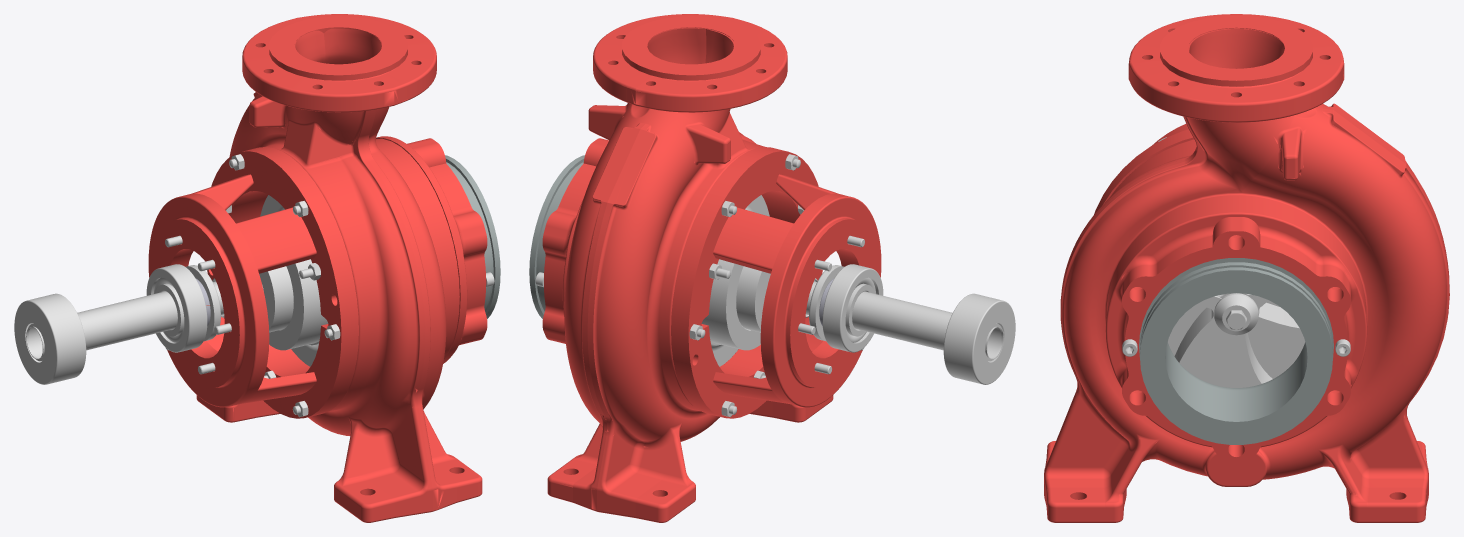
The model's file is motor4.glb.
3 views of the same model, side by side, from view 1: azimuth 30°, elevation 25°; view 2: azimuth 150°, elevation 25°; view 3: azimuth 270°, elevation 25° (orthographic). The views are drawn at different scales.
Visible parts, largest first — view 1: Mesh_3_Standard_1_0, Mesh_1_Standard_1_0.003, Mesh_2_Standard_1_0, Mesh_1_Standard_3_0, Mesh_1_Standard_3_0.023, Mesh_1_Standard_3_0.041, Mesh_1_Standard_3_0.004, Mesh_1_Standard_3_0.056, Mesh_1_Standard_6_0, Mesh_1_Standard_3_0.027, Mesh_1_Standard_1_0.004; view 2: Mesh_3_Standard_1_0, Mesh_1_Standard_1_0.003, Mesh_1_Standard_3_0, Mesh_1_Standard_3_0.023, Mesh_2_Standard_1_0, Mesh_1_Standard_3_0.041, Mesh_1_Standard_3_0.004, Mesh_1_Standard_3_0.056, Mesh_1_Standard_6_0, Mesh_1_Standard_3_0.027; view 3: Mesh_3_Standard_1_0, Mesh_2_Standard_1_0, Mesh_1_Standard_3_0.056, Mesh_1_Standard_3_0.053, Mesh_1_Standard_1_0.003, Mesh_1_Standard_1_0.004, Mesh_1_Standard_3_0.054.
Part boxes in pixels (<box>): Mesh_3_Standard_1_0: <box>196,14,482,522</box>; Mesh_1_Standard_1_0.003: <box>148,147,358,418</box>; Mesh_2_Standard_1_0: <box>376,136,487,363</box>; Mesh_1_Standard_3_0: <box>14,293,86,384</box>; Mesh_1_Standard_3_0.023: <box>26,281,223,361</box>; Mesh_1_Standard_3_0.041: <box>260,195,328,366</box>; Mesh_1_Standard_3_0.004: <box>146,264,207,352</box>; Mesh_1_Standard_3_0.056: <box>445,155,500,319</box>; Mesh_1_Standard_6_0: <box>259,266,293,332</box>; Mesh_1_Standard_3_0.027: <box>186,265,220,341</box>; Mesh_1_Standard_1_0.004: <box>407,138,446,167</box>; Mesh_3_Standard_1_0: <box>547,14,833,522</box>; Mesh_1_Standard_1_0.003: <box>671,147,881,418</box>; Mesh_1_Standard_3_0: <box>943,293,1015,384</box>; Mesh_1_Standard_3_0.023: <box>806,281,1003,361</box>; Mesh_2_Standard_1_0: <box>542,163,595,343</box>; Mesh_1_Standard_3_0.041: <box>701,195,769,366</box>; Mesh_1_Standard_3_0.004: <box>822,264,883,352</box>; Mesh_1_Standard_3_0.056: <box>529,155,584,319</box>; Mesh_1_Standard_6_0: <box>736,266,770,332</box>; Mesh_1_Standard_3_0.027: <box>809,265,844,341</box>; Mesh_3_Standard_1_0: <box>1044,14,1449,522</box>; Mesh_2_Standard_1_0: <box>1105,209,1367,460</box>; Mesh_1_Standard_3_0.056: <box>1139,258,1333,444</box>; Mesh_1_Standard_3_0.053: <box>1168,293,1305,387</box>; Mesh_1_Standard_1_0.003: <box>1094,124,1193,214</box>; Mesh_1_Standard_1_0.004: <box>1212,217,1260,248</box>; Mesh_1_Standard_3_0.054: <box>1214,293,1258,335</box>.
Bounding box in the file's own units: 0.5643 × 0.5169 × 0.4265.
